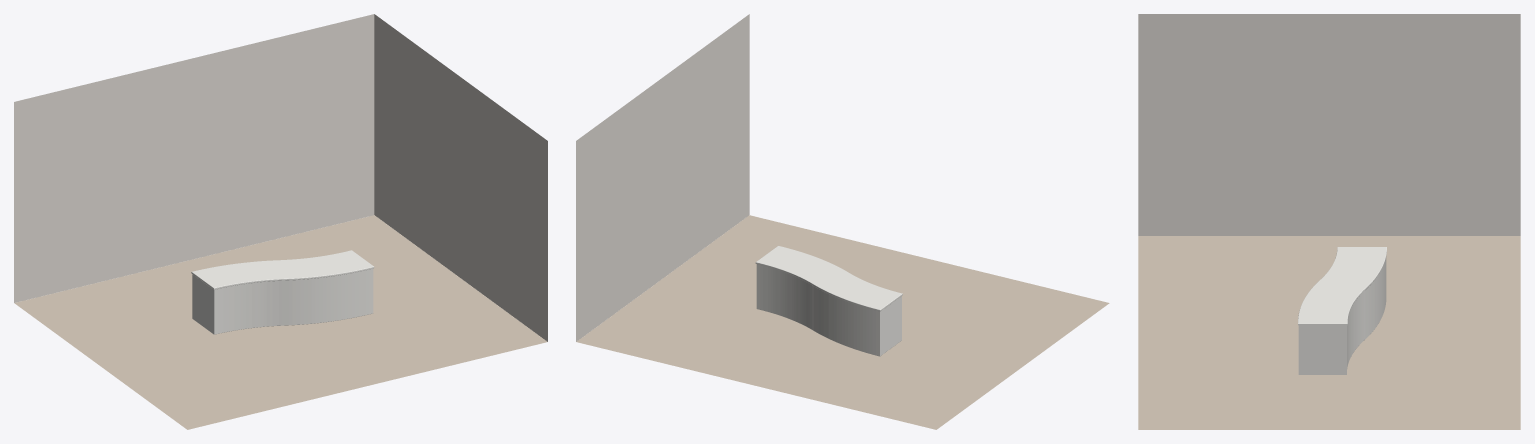
Rendered from mesa-serpentina.glb.
3 views of the same model, side by side, from view 1: azimuth 30°, elevation 25°; view 2: azimuth 150°, elevation 25°; view 3: azimuth 270°, elevation 25° (orthographic). The views are drawn at different scales.
Visible parts, largest first — view 1: sala, decoracion; view 2: sala, decoracion; view 3: sala, decoracion.
Boxes of the visible parts, x1,y1,x2,y2 form: sala: (14,14,547,429); decoracion: (191,250,374,334); sala: (576,14,1109,429); decoracion: (755,245,902,356); sala: (1138,14,1520,429); decoracion: (1298,247,1386,374).
Size of the model in its own units: 6 by 3.2 by 5.
